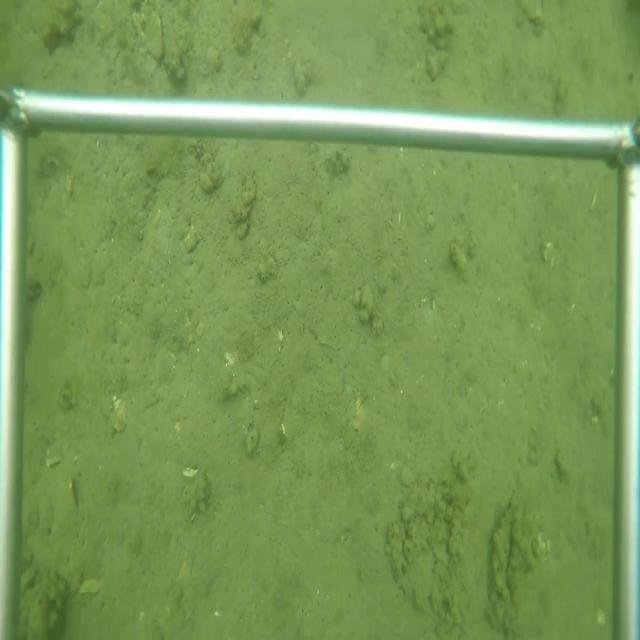Oyster-Indeterminate: (130, 7, 167, 66)
